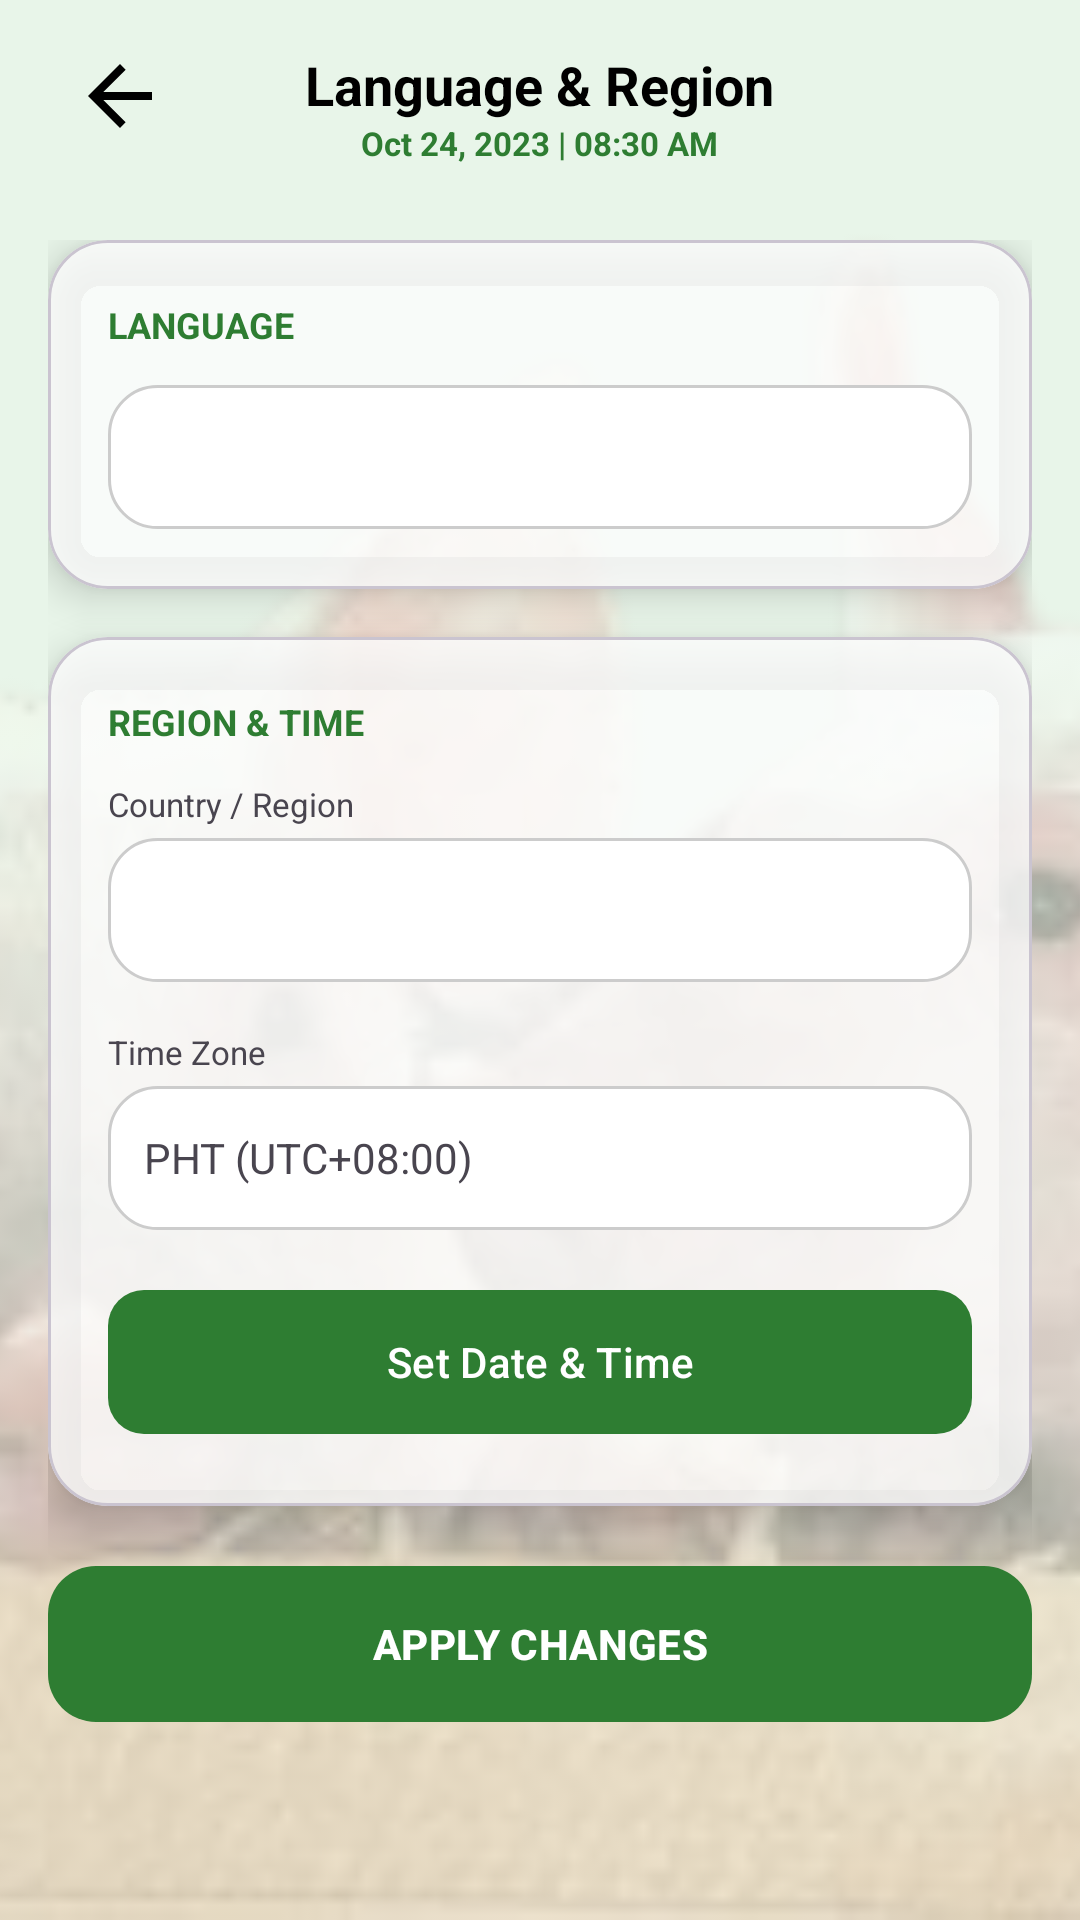

Locate icon controls on the screen. Image size 1080px×1920px, boxes as box(x1, y1, x2, y2).
back arrow: box(88, 64, 152, 128)
